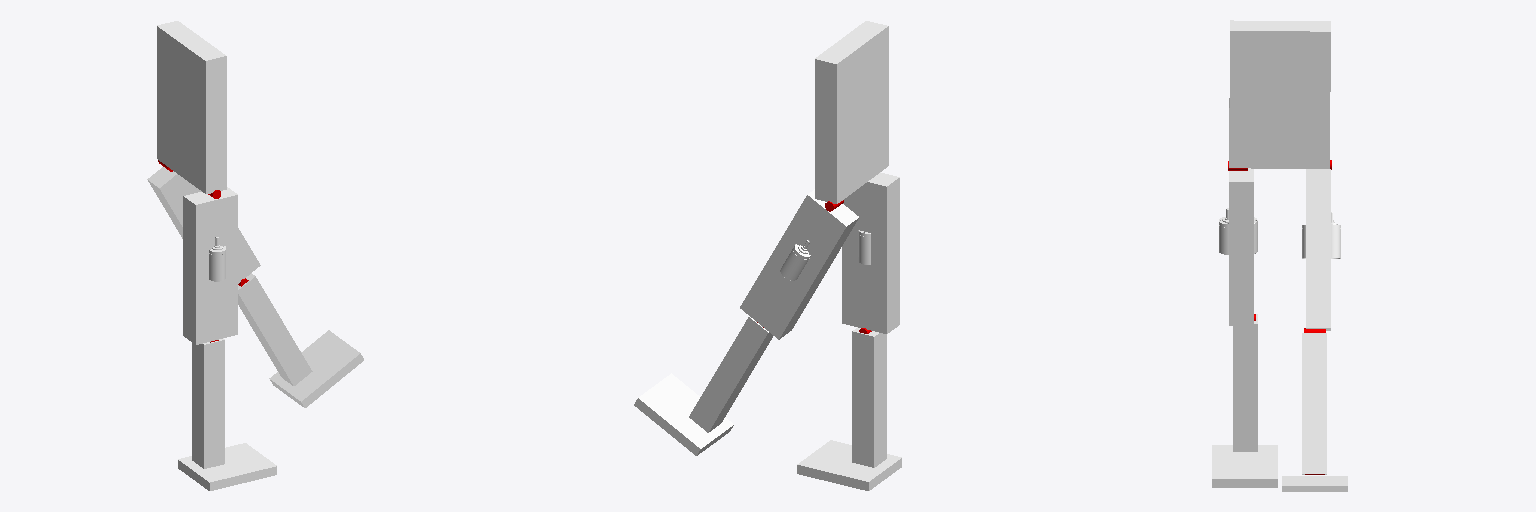
The robot description file, URDF, robot "humanoid":
<?xml version="1.0" ?>
<robot name="humanoid">
    <material name="upperLegLinkColor">
        <color rgba="1 1 1 0.7"/>
    </material>
    <link name="body">
        <visual>
            <geometry>
                <box size="0.05 0.2 0.3"/>
            </geometry>
            <origin xyz="0.0 0 0.15" rpy="-0.0056 -0.0021 0"/>
            <material name="linkColor">
                <color rgba="1 1 1 1"/>
            </material>
        </visual>
        <inertial>
            <mass value="5.6"/>
            <inertia ixx="190" ixy="-0.237" ixz="2.20" iyy="194" iyz="1.42" izz="30.8"/>
            <origin xyz="0.00135  0.00496 -0.105" rpy="0 0 0"/>
        </inertial>
        <collision>
            <geometry>
                <box size="0.05 0.2 0.3"/>
            </geometry>
            <origin xyz="0.0 0 0.15" rpy="-0.0056 -0.0021 0"/>
        </collision>
    </link>


    <joint name="torsoBody" type="fixed">
        <parent link="torso"/>
        <child link="body"/>
        <!-- <origin xyz="0 0.0 -0.15" rpy="-0.0056 -0.0021 0"/> -->
        <origin xyz="0 0.0 0" rpy="0.0 0.0 0"/>
        <axis xyz="1 0 0"/>
        <limit effort="10" lower="-3" upper="+3" velocity="10"/>
        <dynamics damping="0"/>
    </joint>

    <link name="torso">
        <visual>
            <geometry>
                <cylinder length="0.04" radius="0.01"/>
            </geometry>
            <origin xyz="0 0 0" rpy="0 1.57 1.57"/>
            <axis xyz="0 0 0" />
            <material name="blue">
                <color rgba="0.0 0.0 1.0 1.0"/>
            </material>
        </visual>
        <inertial>
            <mass value="1.0"/>
            <inertia ixx="0" ixy="0" ixz="0.0" iyy="0" iyz="0.0" izz="0"/>
        </inertial>
    </link>





    <!-- ****************************Right leg joints******************************************** -->

    <joint name="jointHipR" type="revolute">
        <parent link="torso"/>
        <child link="hipCylinderR"/>
        <origin xyz="0 0.0 0.0" rpy="0 0 0"/>
        <axis xyz="1 0 0"/>
        <limit effort="90" lower="-0.174533" upper="0" velocity="10"/>
        <dynamics damping="0.01"/>
    </joint>


    <link name="hipCylinderR">
        <visual>
            <geometry>
                <cylinder length="0.04" radius="0.01"/>
            </geometry>
            <origin xyz="0 0 0.02" rpy="0 1.57 0"/>
            <axis xyz="0 0 0" />
            <material name="red">
                <color rgba="1 0.0 0.0 1.0"/>
            </material>
        </visual>
        <inertial>
            <mass value="0"/>
            <inertia ixx="0" ixy="0" ixz="0.0" iyy="0" iyz="0.0" izz="0"/>
        </inertial>
    </link>

    <joint name="jointUpperLegR" type="revolute">
        <parent link="hipCylinderR"/>
        <child link="upperLegCylinderR"/>
        <origin xyz="0 -0.0830 -0.0250" rpy="0 0 0"/>
        <axis xyz="0 1 0"/>
        <limit effort="90" lower="-0.698132" upper="+1.047" velocity="10"/>
        <dynamics damping="0.173402366366"/>
    </joint>

    <link name="upperLegCylinderR">
        <visual>
            <geometry>
                <cylinder length="0.04" radius="0.01"/>
            </geometry>
            <origin xyz="0 0 0.02" rpy="1.57 0 0"/>
            <axis xyz="0 0 0" />
            <material name="red"/>
        </visual>
        <inertial>
            <mass value="0"/>
            <inertia ixx="0" ixy="0" ixz="0.0" iyy="0" iyz="0.0" izz="0"/>
        </inertial>
    </link>

    <joint name="jointLowerLegR" type="revolute">
        <parent link="upperLegCylinderR"/>
        <child link="lowerlegCylinderR"/>
        <origin xyz="0.00110 0.0140 -0.3155" rpy="0 0 0"/>
        <axis xyz="0 1 0"/>
        <limit effort="90" lower="0" upper="1.570796" velocity="10"/>
        <dynamics damping="0.198431592389"/>
    </joint>

    <link name="lowerlegCylinderR">
        <visual>
            <geometry>
                <cylinder length="0.044" radius="0.01"/>
            </geometry>
            <origin xyz="0 0 0" rpy="1.57075 0 0"/>
            <axis xyz="0 0 0" />
            <material name="red"/>
        </visual>
        <inertial>
            <mass value="0"/>
            <inertia ixx="0" ixy="0" ixz="0.0" iyy="0" iyz="0.0" izz="0"/>
        </inertial>
    </link>

    <joint name="jointAnkleR" type="revolute">
        <parent link="lowerlegCylinderR"/>
        <child link="ankleCylinderR"/>
        <origin xyz="0.00300 0 -0.2915" rpy="0 0 0"/>
        <axis xyz="0 1 0"/>
        <limit effort="90" lower="-0.436332" upper="+0.436332" velocity="10"/>
        <dynamics damping="0.0005"/>
    </joint>

    <link name="ankleCylinderR">
        <visual>
            <geometry>
                <cylinder length="0.04" radius="0.01"/>
            </geometry>
            <origin xyz="0 0 0.02" rpy="1.57075 0 0"/>
            <axis xyz="0 0 0" />
            <material name="red"/>
        </visual>
        <inertial>
            <mass value="0"/>
            <inertia ixx="0" ixy="0" ixz="0.0" iyy="0" iyz="0.0" izz="0"/>
        </inertial>
    </link>
<!--
    <joint name="jointfootR" type="revolute">
        <parent link="ankleCylinderR"/>
        <child link="footCylinderR"/>
        <origin xyz="0 0 -0.0115" rpy="0 0 0"/>
        <axis xyz="1 0 0"/>
        <limit effort="10" lower="-3" upper="+3" velocity="10"/>
        <dynamics damping="0"/>
    </joint>

    <link name="footCylinderR">
        <visual>
            <geometry>
                <cylinder length="0.04" radius="0.01"/>
            </geometry>
            <origin xyz="0 0 0.02" rpy="0 1.57 0"/>
            <axis xyz="0 0 0" />
            <material name="red"/>
        </visual>
        <inertial>
            <mass value="0"/>
            <inertia ixx="0" ixy="0" ixz="0.0" iyy="0" iyz="0.0" izz="0"/>
        </inertial>
    </link> -->


    <!--************************************ Left leg joints **********************************************-->


    <joint name="jointHipL" type="revolute">
        <parent link="torso"/>
        <child link="hipCylinderL"/>
        <origin xyz="0 0.0 0.0" rpy="0 0 0"/>
        <axis xyz="1 0 0"/>
        <limit effort="90" lower="0" upper="+0.174533" velocity="10"/>
        <dynamics damping="0.01"/>
    </joint>


    <link name="hipCylinderL">
        <visual>
            <geometry>
                <cylinder length="0.04" radius="0.01"/>
            </geometry>
            <origin xyz="0 0 0.02" rpy="0 1.57 0"/>
            <axis xyz="0 0 0" />
            <material name="red">
                <color rgba="1 0.0 0.0 1.0"/>
            </material>
        </visual>
        <inertial>
            <mass value="0"/>
            <inertia ixx="0" ixy="0" ixz="0.0" iyy="0" iyz="0.0" izz="0"/>
        </inertial>
    </link>

    <joint name="jointUpperLegL" type="revolute">
        <parent link="hipCylinderL"/>
        <child link="upperLegCylinderL"/>
        <origin xyz="0 0.0830 -0.0250" rpy="0 -0.5 0"/>
        <axis xyz="0 1 0"/>
        <limit effort="10" lower="-0.174533" upper="+0.174533" velocity="10"/>
        <dynamics damping="0.173402366366"/>
    </joint>

    <link name="upperLegCylinderL">
        <visual>
            <geometry>
                <cylinder length="0.04" radius="0.01"/>
            </geometry>
            <origin xyz="0 0 0.02" rpy="1.57 0 0"/>
            <axis xyz="0 0 0" />
            <material name="red"/>
        </visual>
        <inertial>
            <mass value="0"/>
            <inertia ixx="0" ixy="0" ixz="0.0" iyy="0" iyz="0.0" izz="0"/>
        </inertial>
    </link>

    <joint name="jointLowerLegL" type="revolute">
        <parent link="upperLegCylinderL"/>
        <child link="lowerlegCylinderL"/>
        <origin xyz="0.00110 -0.0140 -0.3155" rpy="0 0 0"/>
        <axis xyz="0 1 0"/>
        <limit effort="90" lower="0" upper="1.570796" velocity="10"/>
        <dynamics damping="0.198431592389"/>
    </joint>

    <link name="lowerlegCylinderL">
        <visual>
            <geometry>
                <cylinder length="0.044" radius="0.01"/>
            </geometry>
            <origin xyz="0 0 0" rpy="1.57075 0 0"/>
            <axis xyz="0 0 0" />
            <material name="red"/>
        </visual>
        <inertial>
            <mass value="0"/>
            <inertia ixx="0" ixy="0" ixz="0.0" iyy="0" iyz="0.0" izz="0"/>
        </inertial>
    </link>

    <joint name="jointAnkleL" type="revolute">
        <parent link="lowerlegCylinderL"/>
        <child link="ankleCylinderL"/>
        <origin xyz="0.00300 0 -0.2915" rpy="0 0 0"/>
        <axis xyz="0 1 0"/>
        <limit effort="90" lower="-0.436332" upper="+0.436332" velocity="10"/>
        <dynamics damping="0.0005"/>
    </joint>

    <link name="ankleCylinderL">
        <visual>
            <geometry>
                <cylinder length="0.04" radius="0.01"/>
            </geometry>
            <origin xyz="0 0 0.02" rpy="1.57075 0 0"/>
            <axis xyz="0 0 0" />
            <material name="red"/>
        </visual>
        <inertial>
            <mass value="0"/>
            <inertia ixx="0" ixy="0" ixz="0.0" iyy="0" iyz="0.0" izz="0"/>
        </inertial>
    </link>

    <!-- <joint name="jointfootL" type="revolute">
        <parent link="ankleCylinderL"/>
        <child link="footCylinderL"/>
        <origin xyz="0 0 -0.0115" rpy="0 0 0"/>
        <axis xyz="1 0 0"/>
        <limit effort="10" lower="-3" upper="+3" velocity="10"/>
        <dynamics damping="0"/>
    </joint>

    <link name="footCylinderL">
        <visual>
            <geometry>
                <cylinder length="0.04" radius="0.01"/>
            </geometry>
            <origin xyz="0 0 0.02" rpy="0 1.57 0"/>
            <axis xyz="0 0 0" />
            <material name="red"/>
        </visual>
        <inertial>
            <mass value="0"/>
            <inertia ixx="0" ixy="0" ixz="0.0" iyy="0" iyz="0.0" izz="0"/>
        </inertial>
    </link> -->




    <!-- **************************************Decorations Right leg **********************************************-->


    <joint name="fixed_hipBridgeR" type="fixed">
        <parent link="hipCylinderR"/>
        <child link="hipBridgeR"/>
    </joint>

    <link name="hipBridgeR">
        <visual>
            <geometry>
                <box size="0.02 0.0830 0.0250"/>
            </geometry>
            <origin xyz="0 -0.0415 0.0125" rpy="0 0 0"/>
            <material name="linkColor">
                <color rgba="1 1 1 1"/>
            </material>
        </visual>
        <inertial>
            <mass value="0.219"/>
            <inertia ixx="414" ixy="0.149" ixz="0.00188" iyy="0.128" iyz="-0.0311" izz="0.359"/>
            <origin rpy="0 0 0" xyz="0.00131 -0.0515 -0.00661"/>
        </inertial>
        <collision>
            <geometry>
                <box size="0.02 0.0830 0.0250"/>
            </geometry>
            <origin xyz="0 -0.0415 0.0125" rpy="0 0 0"/>
            <!-- <contact_coefficient mu="0.0"  resitution="0"  k_p="4000"  k_d="0.01" /> -->
        </collision>
    </link>

    <joint name="fixed_upperLegBridgeR" type="fixed">
        <parent link="upperLegCylinderR"/>
        <child link="upperLegBridgeR"/>
    </joint>

    <link name="upperLegBridgeR">
        <visual>
            <geometry>
                <box size="0.1 0.05 0.3155"/>
            </geometry>
            <origin xyz="0.0005 0.007 -0.15" rpy="0 0 0"/>
            <material name="upperLegLinkColor" />
        </visual>
        <inertial>
            <mass value="1.94"/>
            <inertia ixx="10.4" ixy="-0.00195" ixz="0.0231" iyy="9.33" iyz="-0.127" izz="1.61"/>
            <origin xyz="-0.00154  -0.00421 -0.111" rpy="0 0 0"/>
        </inertial>
        <collision>
            <geometry>
                <box size="0.1 0.05 0.3155"/>
            </geometry>
            <origin xyz="0.0005 0.007 -0.15" rpy="0 0 0"/>
        </collision>
    </link>

    <!-- Right Leg Motors -->
    <!-- Motor 1 -->
    <joint name="fixed_upperRightLegToRight_Motor1_Gear" type="fixed">
        <origin xyz="0 0.02 -0.1" rpy="0 0 0"/>
        <parent link="upperLegCylinderR"/>
        <child link="Right_Motor1_gear"/>
    </joint>
    <link name="Right_Motor1_gear">
        <visual>
            <geometry>
                <mesh filename="meshes/gear.obj"  scale="0.03 0.03 0.03"/>
            </geometry>
            <origin xyz="0 0 0" rpy="0 1.57 0"/>
            <material name="linkColor">
                <color rgba="1 1 1 1"/>
            </material>
        </visual>        
    </link>
    <joint name="fixed_Right_Motor1_GearToRight_Motor1_Motor" type="fixed">
        <origin xyz="0 0 -0.08" rpy="0 0 0"/>
        <parent link="Right_Motor1_gear"/>
        <child link="Right_Motor1_motor"/>
    </joint>
    <link name="Right_Motor1_motor">
        <visual>
            <geometry>
                <mesh filename="meshes/motor.obj"  scale="0.03 0.03 0.03"/>
            </geometry>
            <origin xyz="0 0 0" rpy="0 1.57 0"/>
            <material name="linkColor">
                <color rgba="1 1 1 1"/>
            </material>
        </visual>        
    </link>
    <!-- Motor 2 -->
    <joint name="fixed_RightupperLegToRight_Motor2_Gear" type="fixed">
        <origin xyz="0 -0.02 -0.1" rpy="0 0 0"/>
        <parent link="upperLegCylinderR"/>
        <child link="Right_Motor2_gear"/>
    </joint>
    <link name="Right_Motor2_gear">
        <visual>
            <geometry>
                <mesh filename="meshes/gear.obj"  scale="0.03 0.03 0.03"/>
            </geometry>
            <origin xyz="0 0 0" rpy="0 1.57 0"/>
            <material name="linkColor">
                <color rgba="1 1 1 1"/>
            </material>
        </visual>        
    </link>
    <joint name="fixed_Right_Motor2_GearToRight_Motor2_Motor" type="fixed">
        <origin xyz="0 0 -0.08" rpy="0 0 0"/>
        <parent link="Right_Motor2_gear"/>
        <child link="Right_Motor2_motor"/>
    </joint>
    <link name="Right_Motor2_motor">
        <visual>
            <geometry>
                <mesh filename="meshes/motor.obj"  scale="0.03 0.03 0.03"/>
            </geometry>
            <origin xyz="0 0 0" rpy="0 1.57 0"/>
            <material name="linkColor">
                <color rgba="1 1 1 1"/>
            </material>
        </visual>        
    </link>






    <joint name="fixed_lowerLegBridgeR" type="fixed">
        <parent link="lowerlegCylinderR"/>
        <child link="lowerLegBridgeR"/>
    </joint>

    <link name="lowerLegBridgeR">
        <visual>
            <geometry>
                <box size="0.05 0.05 0.28"/>
            </geometry>
            <origin xyz="-0.0015 0 -0.14" rpy="0 0 0"/>
            <material name="linkColor">
                <color rgba="1 1 1 1"/>
            </material>
        </visual>
        <inertial>
            <mass value="0.267"/>
            <inertia ixx="2.52" ixy="-0.000411" ixz="-0.0238" iyy="2.45" iyz="0.0366" izz="0.110"/>
            <origin xyz="0.00135  0.00496 -0.105" rpy="0 0 0"/>
        </inertial>
        <collision>
            <geometry>
                <box size="0.05 0.05 0.28"/>
            </geometry>
            <origin xyz="0.0015 0 -0.14" rpy="0 0 0"/>
            <!-- <contact_coefficient mu="0.0960723602789"  resitution="0"  k_p="4000"  k_d="0.198431592389" /> -->
        </collision>
    </link>


    <joint name="fixed_ankleBridgeR" type="fixed">
        <parent link="ankleCylinderR"/>
        <child link="ankleBridgeR"/>
    </joint>

    <link name="ankleBridgeR">
        <visual>
            <geometry>
                <box size="0.16 0.13 0.02"/>
            </geometry>
            <origin xyz="0.04 0 -0.01" rpy="0 0 0"/>
            <material name="linkColor">
                <color rgba="1 1 1 1"/>
            </material>
        </visual>
        <inertial>
            <mass value="0.2356"/>
            <inertia ixx="0.0952" ixy="0.00066457" ixz="0.0003989" iyy="0.5002" iyz="-0.005328" izz="0.5679"/>
            <origin xyz="0.0230654545  0.0004316655 -0.0061157216" rpy="0 0 0"/>
        </inertial>
        <collision>
            <geometry>
                <box size="0.16 0.13 0.02"/>
            </geometry>
            <origin xyz="0.04 0 -0.01" rpy="0 0 0"/>
            <!-- <contact_coefficient mu="0.15"  resitution="0"  k_p="2.0593"  k_d="0.0005" /> -->
        </collision>
    </link>


    <!--&lt;!&ndash; *********************************Decorations Left leg ******************************************&ndash;&gt;-->
    <joint name="fixed_hipBridgeL" type="fixed">
        <parent link="hipCylinderL"/>
        <child link="hipBridgeL"/>
    </joint>

    <link name="hipBridgeL">
        <visual>
            <geometry>
                <box size="0.02 0.0830 0.0250"/>
            </geometry>
            <origin xyz="0 0.0415 0.0125" rpy="0 0 0"/>
            <material name="linkColor">
                <color rgba="1 0 0 1"/>
            </material>
        </visual>
        <inertial>
            <mass value="0.219"/>
            <inertia ixx="414" ixy="0.149" ixz="0.00188" iyy="0.128" iyz="-0.0311" izz="0.359"/>
            <origin rpy="0 0 0" xyz="0.00131 -0.0515 -0.00661"/>
        </inertial>
        <collision>
            <geometry>
                <box size="0.02 0.0830 0.0250"/>
            </geometry>
            <origin xyz="0 0.0415 0.0125" rpy="0 0 0"/>
            <!-- <contact_coefficient mu="0.0"  resitution="0"  k_p="4000"  k_d="0.01" /> -->
        </collision>
    </link>

    <joint name="fixed_upperLegBridgeL" type="fixed">
        <parent link="upperLegCylinderL"/>
        <child link="upperLegBridgeL"/>
    </joint>   
    <!-- upper leg rigid body -->
    <link name="upperLegBridgeL">
        <visual>
            <geometry>
                <box size="0.1 0.05 0.3155"/>
            </geometry>
            <origin xyz="0.0005 -0.007 -0.15" rpy="0 0 0"/>
            <material name="upperLegLinkColor" />
        </visual>
        <inertial>
            <mass value="1.94"/>
            <inertia ixx="10.4" ixy="-0.00195" ixz="0.0231" iyy="9.33" iyz="-0.127" izz="1.61"/>
            <origin xyz="-0.00154  -0.00421 -0.111" rpy="0 0 0"/>
        </inertial>
        <collision>
            <geometry>
                <box size="0.1 0.05 0.3155"/>
            </geometry>
            <origin xyz="0.0005 -0.007 -0.15" rpy="0 0 0"/>
        </collision>
    </link>

    <!-- Left Leg Motors -->
    <!-- Motor 1 -->
    <joint name="fixed_upperLegToMotor1_Gear" type="fixed">
        <origin xyz="0 0.02 -0.1" rpy="0 0 0"/>
        <parent link="upperLegCylinderL"/>
        <child link="Left_Motor1_gear"/>
    </joint>
    <link name="Left_Motor1_gear">
        <visual>
            <geometry>
                <mesh filename="meshes/gear.obj"  scale="0.03 0.03 0.03"/>
            </geometry>
            <origin xyz="0 0 0" rpy="0 1.57 0"/>
            <material name="linkColor">
                <color rgba="1 1 1 1"/>
            </material>
        </visual>        
    </link>
    <joint name="fixed_Motor1_GearToMotor1_Motor" type="fixed">
        <origin xyz="0 0 -0.08" rpy="0 0 0"/>
        <parent link="Left_Motor1_gear"/>
        <child link="Left_Motor1_motor"/>
    </joint>
    <link name="Left_Motor1_motor">
        <visual>
            <geometry>
                <mesh filename="meshes/motor.obj"  scale="0.03 0.03 0.03"/>
            </geometry>
            <origin xyz="0 0 0" rpy="0 1.57 0"/>
            <material name="linkColor">
                <color rgba="1 1 1 1"/>
            </material>
        </visual>        
    </link>
    <!-- Motor 2 -->
    <joint name="fixed_upperLegToMotor2_Gear" type="fixed">
        <origin xyz="0 -0.02 -0.1" rpy="0 0 0"/>
        <parent link="upperLegCylinderL"/>
        <child link="Left_Motor2_gear"/>
    </joint>
    <link name="Left_Motor2_gear">
        <visual>
            <geometry>
                <mesh filename="meshes/gear.obj"  scale="0.03 0.03 0.03"/>
            </geometry>
            <origin xyz="0 0 0" rpy="0 1.57 0"/>
            <material name="linkColor">
                <color rgba="1 1 1 1"/>
            </material>
        </visual>        
    </link>
    <joint name="fixed_Motor2_GearToMotor2_Motor" type="fixed">
        <origin xyz="0 0 -0.08" rpy="0 0 0"/>
        <parent link="Left_Motor2_gear"/>
        <child link="Left_Motor2_motor"/>
    </joint>
    <link name="Left_Motor2_motor">
        <visual>
            <geometry>
                <mesh filename="meshes/motor.obj"  scale="0.03 0.03 0.03"/>
            </geometry>
            <origin xyz="0 0 0" rpy="0 1.57 0"/>
            <material name="linkColor">
                <color rgba="1 1 1 1"/>
            </material>
        </visual>        
    </link>




    <!-- Left Lower Leg rigid body -->
    <joint name="fixed_lowerLegBridgeL" type="fixed">
        <parent link="lowerlegCylinderL"/>
        <child link="lowerLegBridgeL"/>
    </joint>

    <link name="lowerLegBridgeL">
        <visual>
            <geometry>
                <box size="0.05 0.05 0.28"/>
            </geometry>
            <origin xyz="0.0015 0 -0.14" rpy="0 0 0"/>
            <material name="linkColor">
                <color rgba="1 1 1 1"/>
            </material>
        </visual>
        <inertial>
            <mass value="0.267"/>
            <inertia ixx="2.52" ixy="-0.000411" ixz="-0.0238" iyy="2.45" iyz="0.0366" izz="0.110"/>
            <origin xyz="0.00135  0.00496 -0.105" rpy="0 0 0"/>
        </inertial>
        <collision>
            <geometry>
                <box size="0.05 0.05 0.28"/>
            </geometry>
            <origin xyz="0.0015 0 -0.14" rpy="0 0 0"/>
            <!-- <contact_coefficient mu="0.0960723602789"  resitution="0"  k_p="4000"  k_d="0.198431592389" /> -->
        </collision>
    </link>


    <joint name="fixed_ankleBridgeL" type="fixed">
        <parent link="ankleCylinderL"/>
        <child link="ankleBridgeL"/>
    </joint>

    <link name="ankleBridgeL">
        <visual>
            <geometry>
                <box size="0.16 0.13 0.02"/>
            </geometry>
            <origin xyz="0.04 0 -0.01" rpy="0 0 0"/>
            <material name="linkColor">
                <color rgba="1 1 1 1"/>
            </material>
        </visual>
        <inertial>
            <mass value="0.2356"/>
            <inertia ixx="0.0952" ixy="0.00066457" ixz="0.0003989" iyy="0.5002" iyz="-0.005328" izz="0.5679"/>
            <origin xyz="0.0230654545  0.0004316655 -0.0061157216" rpy="0 0 0"/>
        </inertial>
        <collision>
            <geometry>
                <box size="0.16 0.13 0.02"/>
            </geometry>
            <origin xyz="0.04 0 -0.01" rpy="0 0 0"/>
            <!-- <contact_coefficient mu="0.15"  resitution="0"  k_p="2.0593"  k_d="0.0005" /> -->
        </collision>
    </link>
</robot>

--- Render facts (derived) ---
3 views of the same robot in one strip: view 1: azimuth 30°, elevation 25°; view 2: azimuth 150°, elevation 25°; view 3: azimuth 270°, elevation 25° (orthographic).
Robot: humanoid — 26 links, 25 joints (8 revolute, 17 fixed); root link torso; default pose: every joint at zero.
Links seen in each view (by area): view 1: body, upperLegBridgeR, lowerLegBridgeR, lowerLegBridgeL, ankleBridgeL, ankleBridgeR, upperLegBridgeL, Right_Motor2_gear; view 2: body, upperLegBridgeR, upperLegBridgeL, lowerLegBridgeR, lowerLegBridgeL, ankleBridgeL, ankleBridgeR, Left_Motor1_gear; view 3: body, upperLegBridgeL, upperLegBridgeR, lowerLegBridgeL, lowerLegBridgeR, ankleBridgeR, ankleBridgeL.
Boxes of the visible links, x1,y1,x2,y2 form: body: (157,21,226,193); upperLegBridgeR: (183,187,237,344); lowerLegBridgeR: (192,338,224,468); lowerLegBridgeL: (238,273,312,385); ankleBridgeL: (269,330,363,407); ankleBridgeR: (178,443,276,490); upperLegBridgeL: (147,167,260,283); Right_Motor2_gear: (209,237,225,281); body: (815,21,888,203); upperLegBridgeR: (842,172,899,333); upperLegBridgeL: (740,189,858,339); lowerLegBridgeR: (852,327,886,467); lowerLegBridgeL: (689,316,772,432); ankleBridgeL: (634,373,733,455); ankleBridgeR: (797,440,901,490); Left_Motor1_gear: (780,240,810,280); body: (1229,20,1330,168); upperLegBridgeL: (1306,169,1330,330); upperLegBridgeR: (1229,168,1253,325); lowerLegBridgeL: (1302,333,1326,474); lowerLegBridgeR: (1233,314,1257,451); ankleBridgeR: (1212,445,1277,487); ankleBridgeL: (1282,476,1347,491).
Bounding box of the posed robot: 0.459 × 0.268 × 0.9526 m (x, y, z).
Meshes: 2 distinct files referenced, 4 mesh visuals loaded (1 OBJ); not drawn: 4 (reference not matched to a file when rendering).